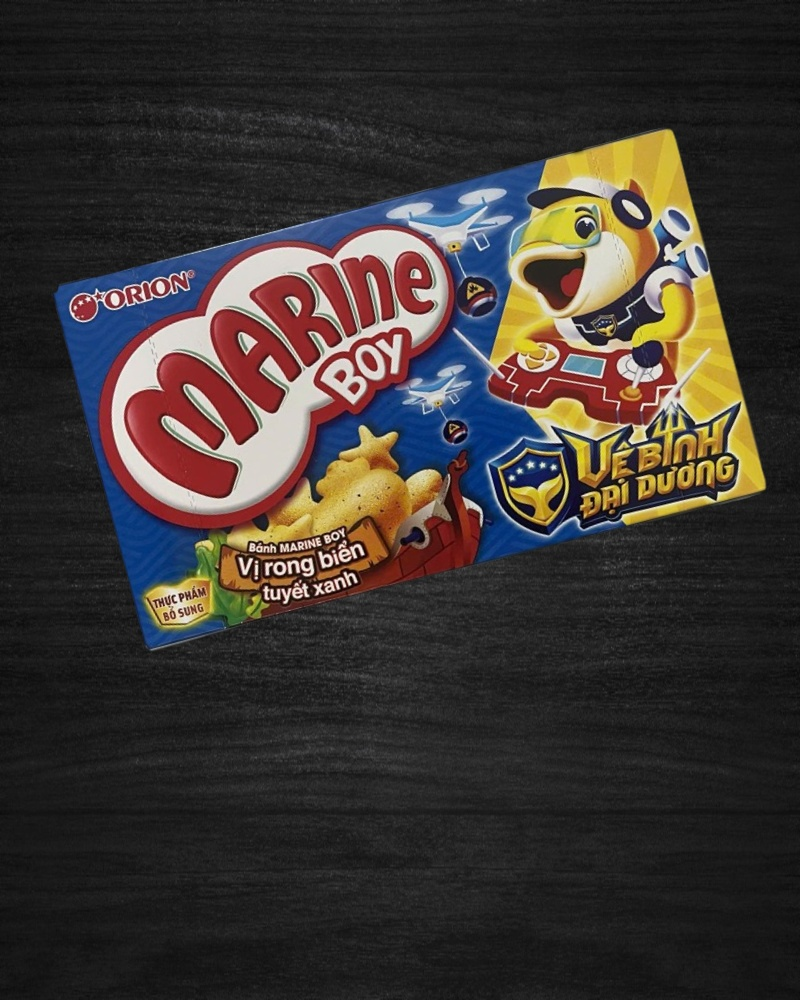Marine: (52, 121, 772, 657)
